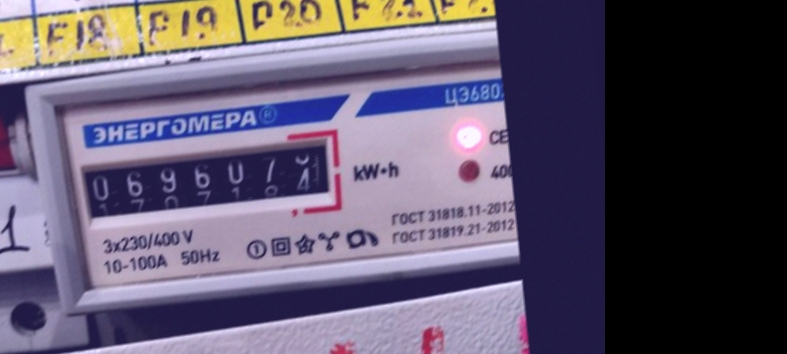0: (222, 154, 243, 185), (89, 171, 108, 201)
4: (291, 162, 310, 192)
6: (190, 158, 210, 189), (122, 167, 142, 196)
7: (256, 151, 278, 184)
9: (155, 163, 176, 193)
screen: (64, 123, 348, 235)
